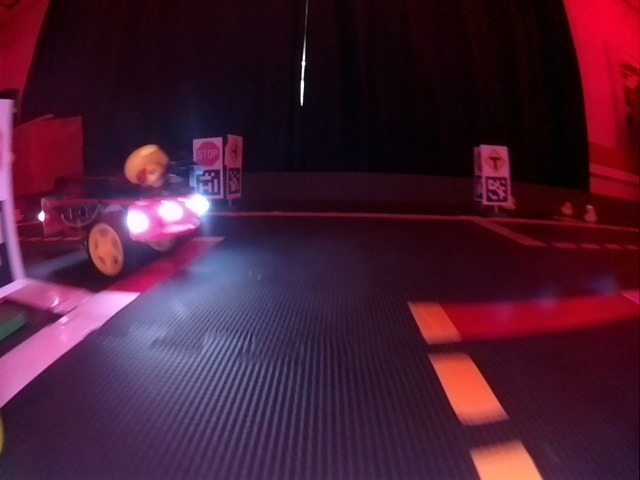Duckie: (125, 146, 167, 187), (584, 206, 597, 221), (561, 202, 573, 215)
Duckiebot: (40, 179, 205, 272)
Intersection sign: (485, 145, 508, 173), (228, 138, 241, 165)
QR code: (194, 172, 222, 197), (485, 176, 509, 204), (228, 169, 241, 195), (475, 176, 483, 200)
Stop sign: (196, 141, 221, 167)
